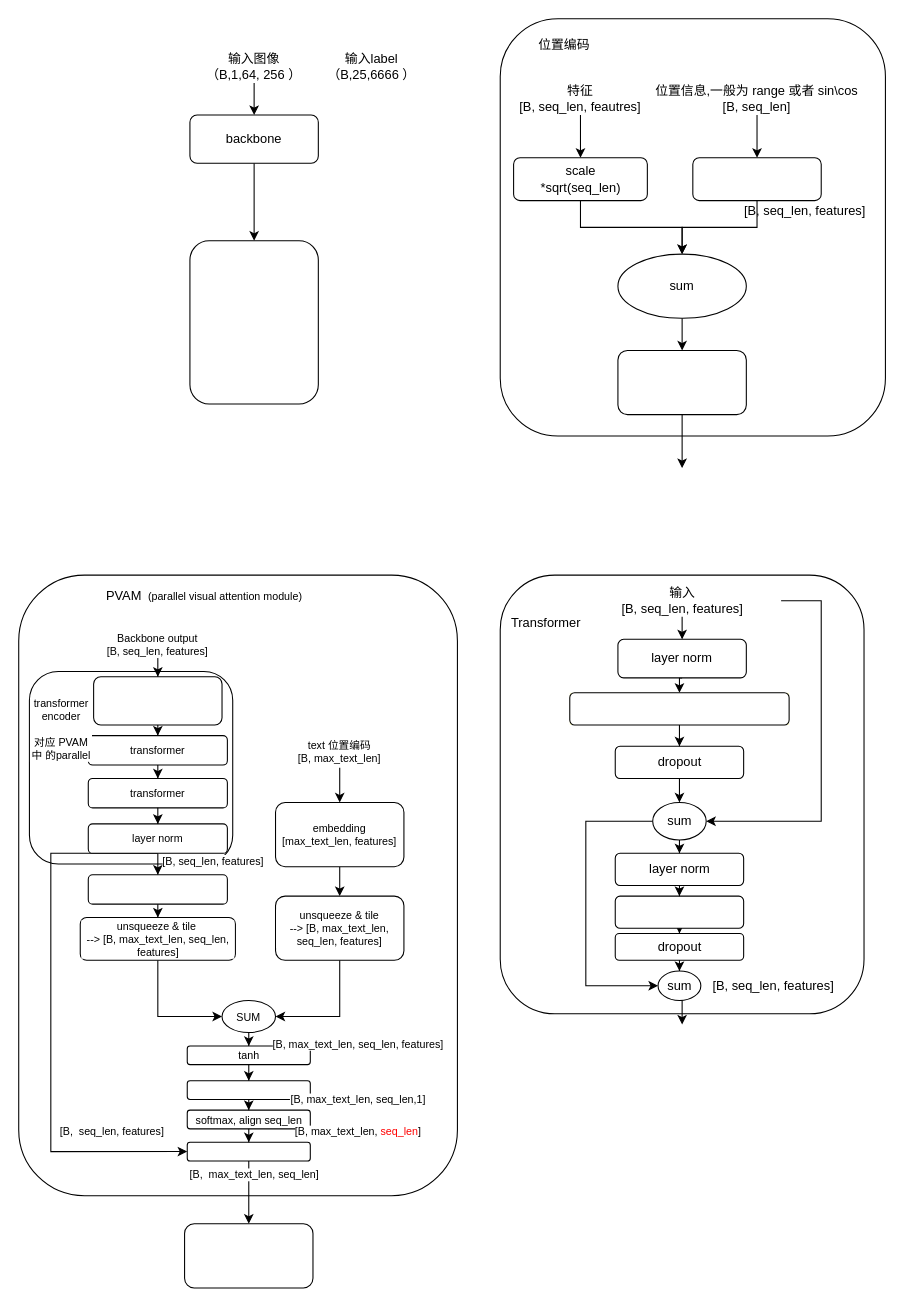
Image size: 904x1308. Some labels were removed from this diagram. The centre of each missing label's shape, as x and y in pixels:
Embedding seq_len, features: pixel 756 179
fc (features, features): pixel 157 889
fc, [feautres, 1]: pixel 248 1089
FFN: pixel 679 911
Mat mul: pixel 248 1151
Multi head attention: pixel 679 708
pvam pre: pixel 253 322
可选，dropout: pixel 681 382
特征位置编码，[B, seq_len], 即 [B, 256]: pixel 157 700
